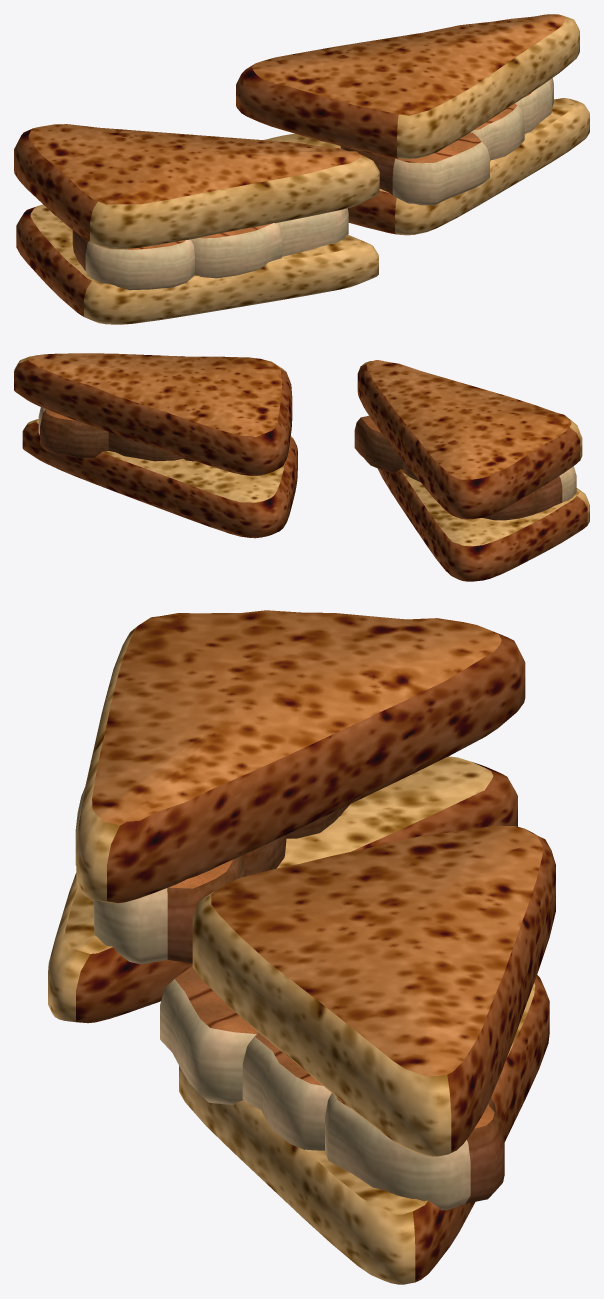
The model's file is crocodile_sandwich.glb.
3 views of the same model, one above another, from view 1: azimuth 30°, elevation 25°; view 2: azimuth 150°, elevation 25°; view 3: azimuth 270°, elevation 25° (orthographic). The views are drawn at different scales.
Visible parts, largest first — view 1: crocodile_sandwich; view 2: crocodile_sandwich; view 3: crocodile_sandwich.
Part boxes in pixels (x1,y1,x2,y2): crocodile_sandwich: [14, 14, 589, 324]; crocodile_sandwich: [14, 353, 589, 581]; crocodile_sandwich: [48, 610, 555, 1284].
Bounding box in the file's own units: 0.2323 × 0.0472 × 0.1011.
6 materials, 6 textured.
